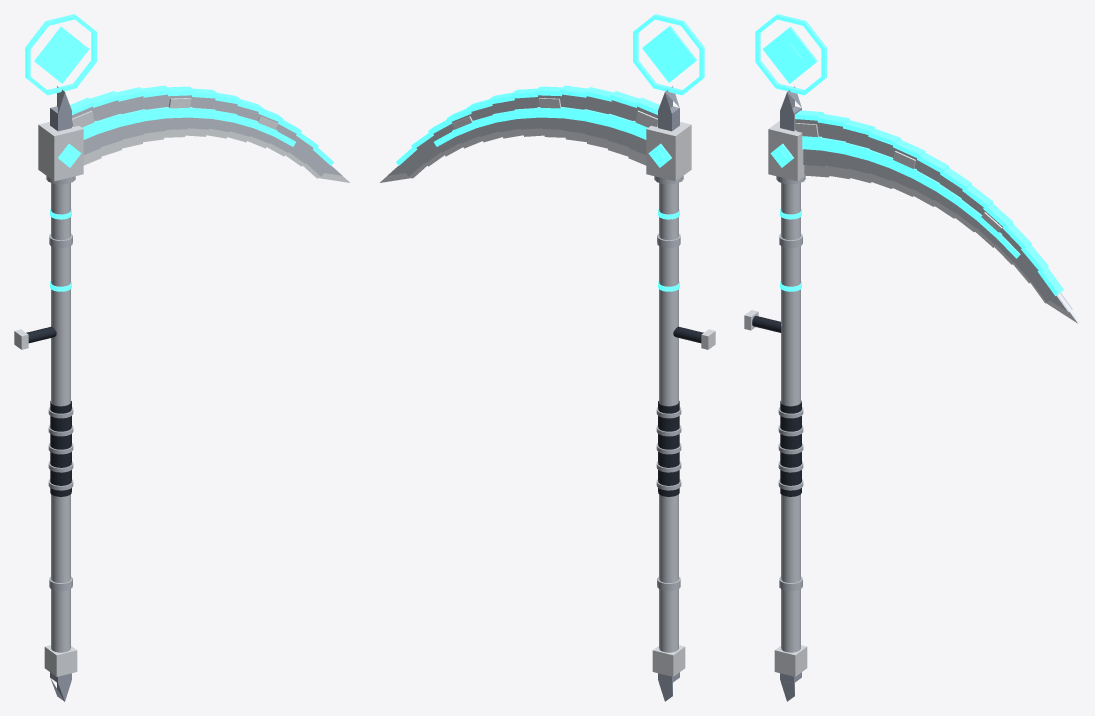
3 views of the same model, side by side, from view 1: azimuth 30°, elevation 25°; view 2: azimuth 150°, elevation 25°; view 3: azimuth 330°, elevation 25° (orthographic).
Parts seen in each view (by area): view 1: halo-scythe; view 2: halo-scythe; view 3: halo-scythe.
Boxes of the visible parts, x1,y1,x2,y2 form: halo-scythe: (14, 14, 349, 701); halo-scythe: (380, 14, 715, 701); halo-scythe: (744, 14, 1080, 701).
Size of the model in its own units: 0.966 by 1.89 by 0.0997.
